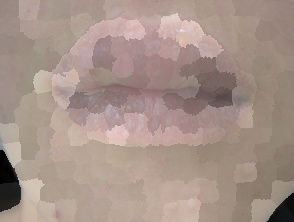SJS-TEN: (40, 2, 273, 148)
